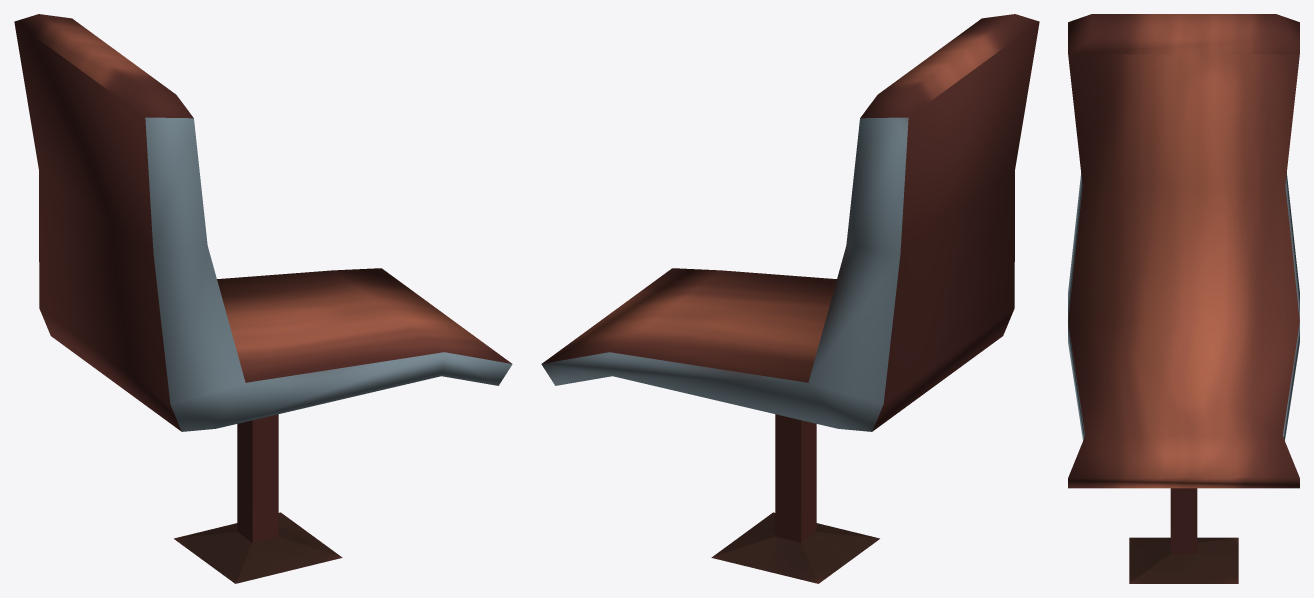
The model's file is library-chair.fbx.
3 views of the same model, side by side, from view 1: azimuth 30°, elevation 25°; view 2: azimuth 150°, elevation 25°; view 3: azimuth 270°, elevation 25° (orthographic). The views are drawn at different scales.
Visible parts, largest first — view 1: chair; view 2: chair; view 3: chair.
Boxes of the visible parts, left/top/right/bottom form: chair: left=14, top=14, right=512, bottom=583; chair: left=541, top=14, right=1039, bottom=583; chair: left=1068, top=14, right=1299, bottom=583.
Bounding box in the file's own units: 389 × 544 × 241.
